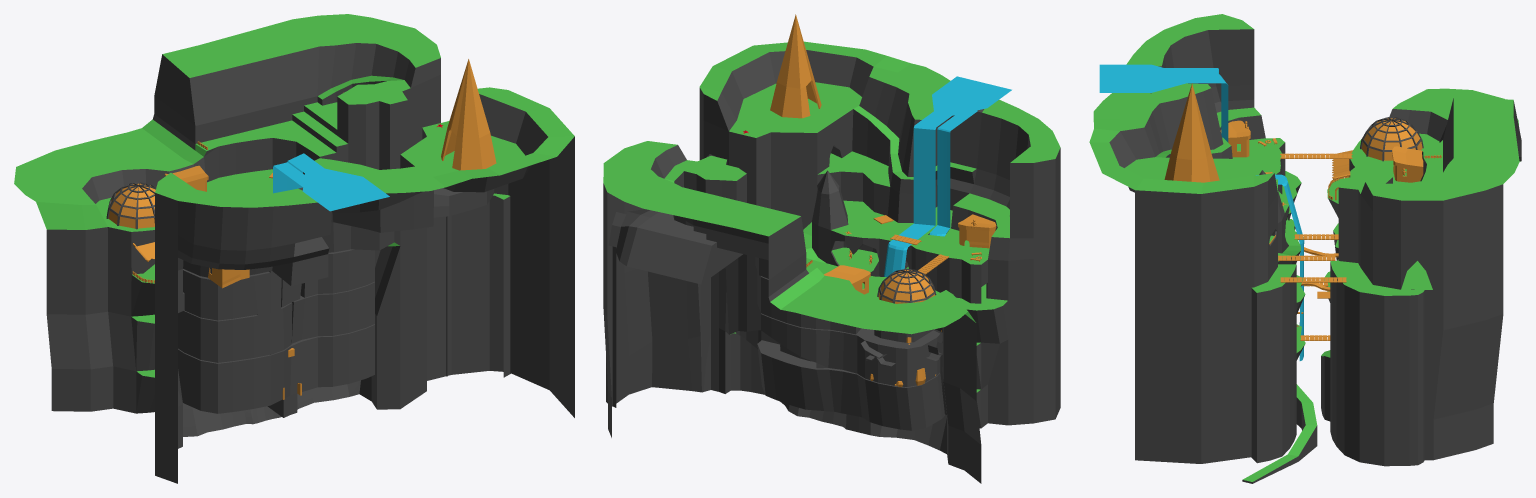
File: corneta_rework_v6.fbx
The picture shows the model from 3 angles, left to right: view 1: azimuth 30°, elevation 25°; view 2: azimuth 150°, elevation 25°; view 3: azimuth 270°, elevation 25°; orthographic projection. The views are drawn at different scales.
Parts seen in each view (by area): view 1: Cube.002; view 2: Cube.002; view 3: Cube.002.
Part boxes in pixels (x1=…): Cube.002: x1=14, y1=14, x2=574, y2=483; Cube.002: x1=603, y1=14, x2=1060, y2=483; Cube.002: x1=1089, y1=14, x2=1521, y2=483.
Size of the model in its own units: 21491 by 16954 by 19113.
